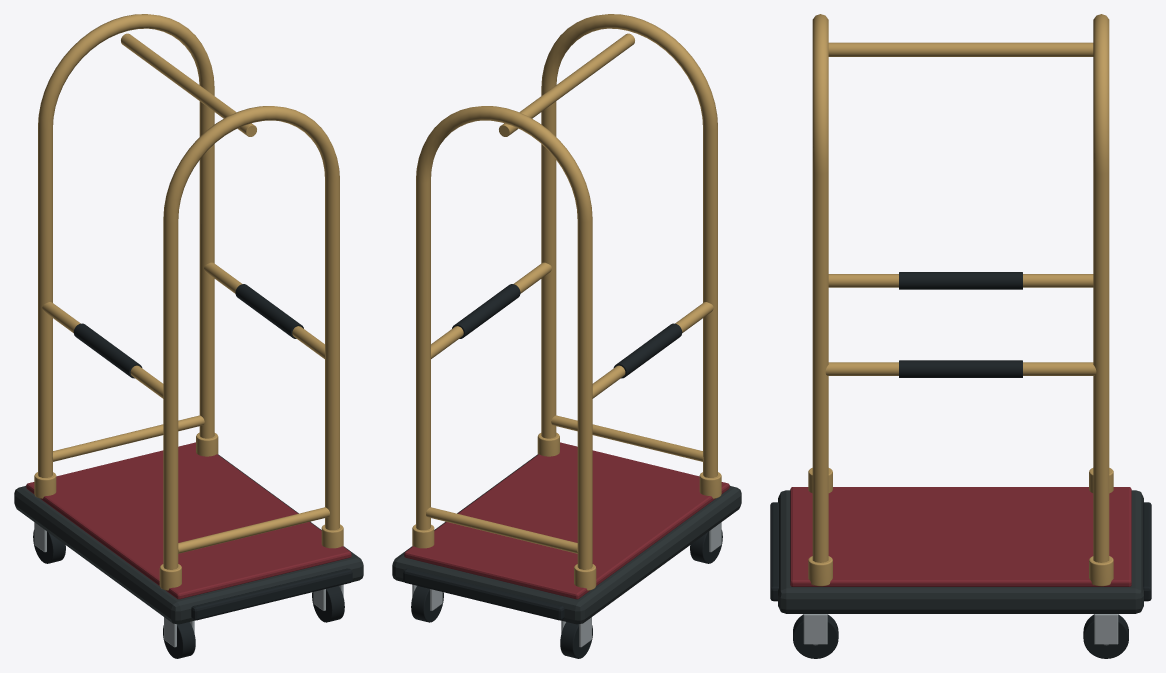
The model's file is city-hotel-luggage-cart.glb.
3 renders of one model, left to right at view 1: azimuth 30°, elevation 25°; view 2: azimuth 150°, elevation 25°; view 3: azimuth 270°, elevation 25°, orthographic. The views are drawn at different scales.
Visible parts, largest first — view 1: Assembly | Brushed warm brass cart frame, Assembly | Burgundy platform carpet solid color, Assembly | Graphite machine powder coat, Assembly | Non-marking rubber, Assembly | Zinc plated steel; view 2: Assembly | Brushed warm brass cart frame, Assembly | Burgundy platform carpet solid color, Assembly | Graphite machine powder coat, Assembly | Non-marking rubber, Assembly | Zinc plated steel; view 3: Assembly | Burgundy platform carpet solid color, Assembly | Brushed warm brass cart frame, Assembly | Graphite machine powder coat, Assembly | Non-marking rubber, Assembly | Zinc plated steel.
Part boxes in pixels (x1,y1,x2,y2): Assembly | Brushed warm brass cart frame: (34,14,343,590); Assembly | Burgundy platform carpet solid color: (26,442,351,599); Assembly | Graphite machine powder coat: (14,454,363,624); Assembly | Non-marking rubber: (33,284,352,658); Assembly | Zinc plated steel: (34,522,343,647); Assembly | Brushed warm brass cart frame: (412,14,721,590); Assembly | Burgundy platform carpet solid color: (404,442,729,599); Assembly | Graphite machine powder coat: (392,454,741,624); Assembly | Non-marking rubber: (403,284,722,658); Assembly | Zinc plated steel: (412,522,721,647); Assembly | Burgundy platform carpet solid color: (790,487,1131,586); Assembly | Brushed warm brass cart frame: (808,14,1113,586); Assembly | Graphite machine powder coat: (778,490,1143,613); Assembly | Non-marking rubber: (770,272,1151,658); Assembly | Zinc plated steel: (803,614,1118,645).
Bounding box in the file's own units: 0.76 × 2 × 1.17.
